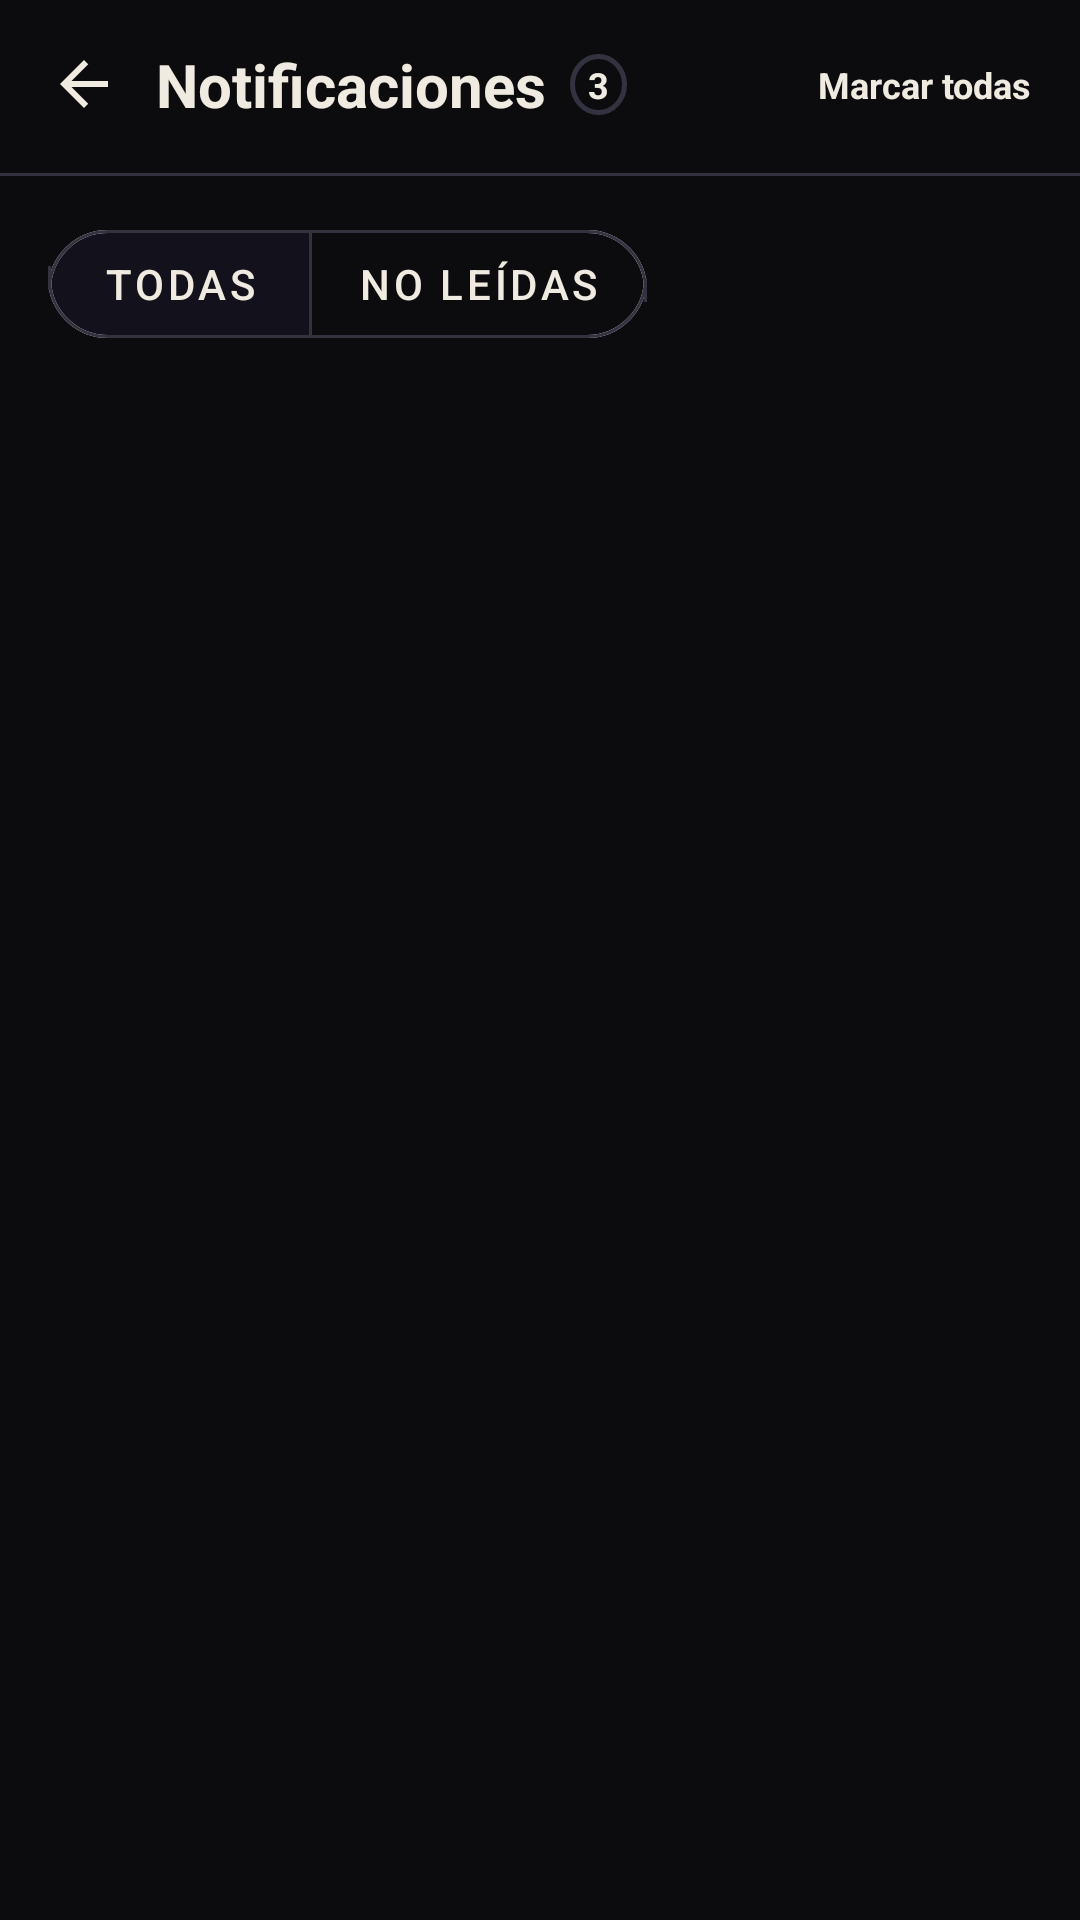

Screen size 1080w x 1920h. Icon name, then its center in pixels as point (x, y):
arrow back: point (84, 84)
